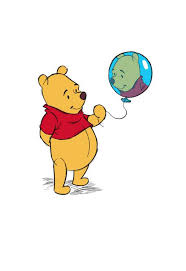Winnie: (36, 60, 104, 142)
